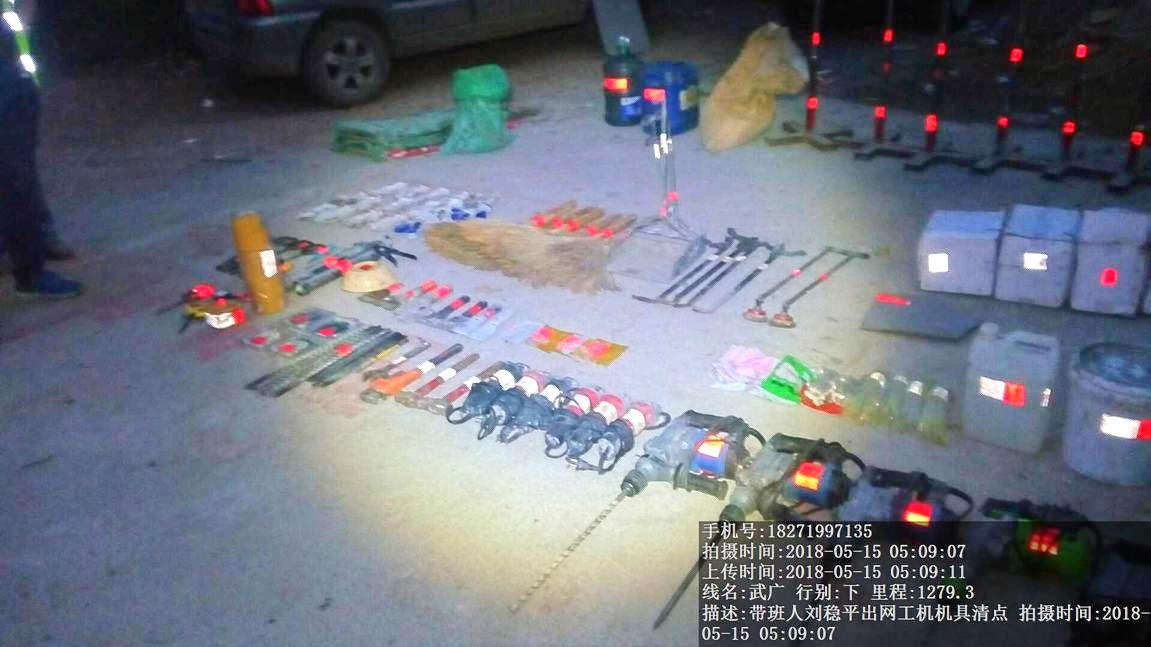DZ: (612, 405, 758, 505), (719, 435, 858, 524)
